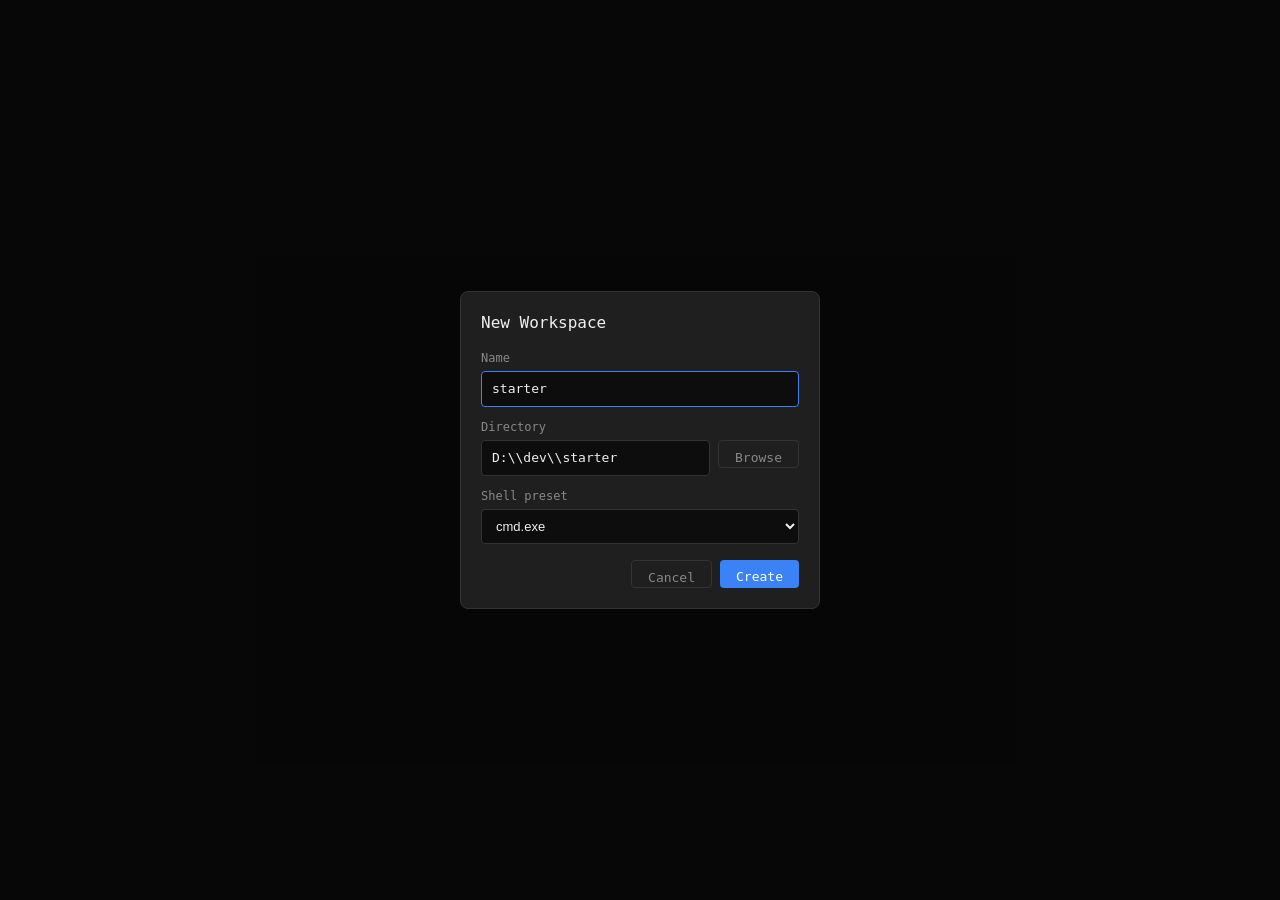
Scenario: CreateWorkspaceModal › shows a clear local error when browsing fails
Click the button "Browse" at (758, 454), box [718,440,799,468]
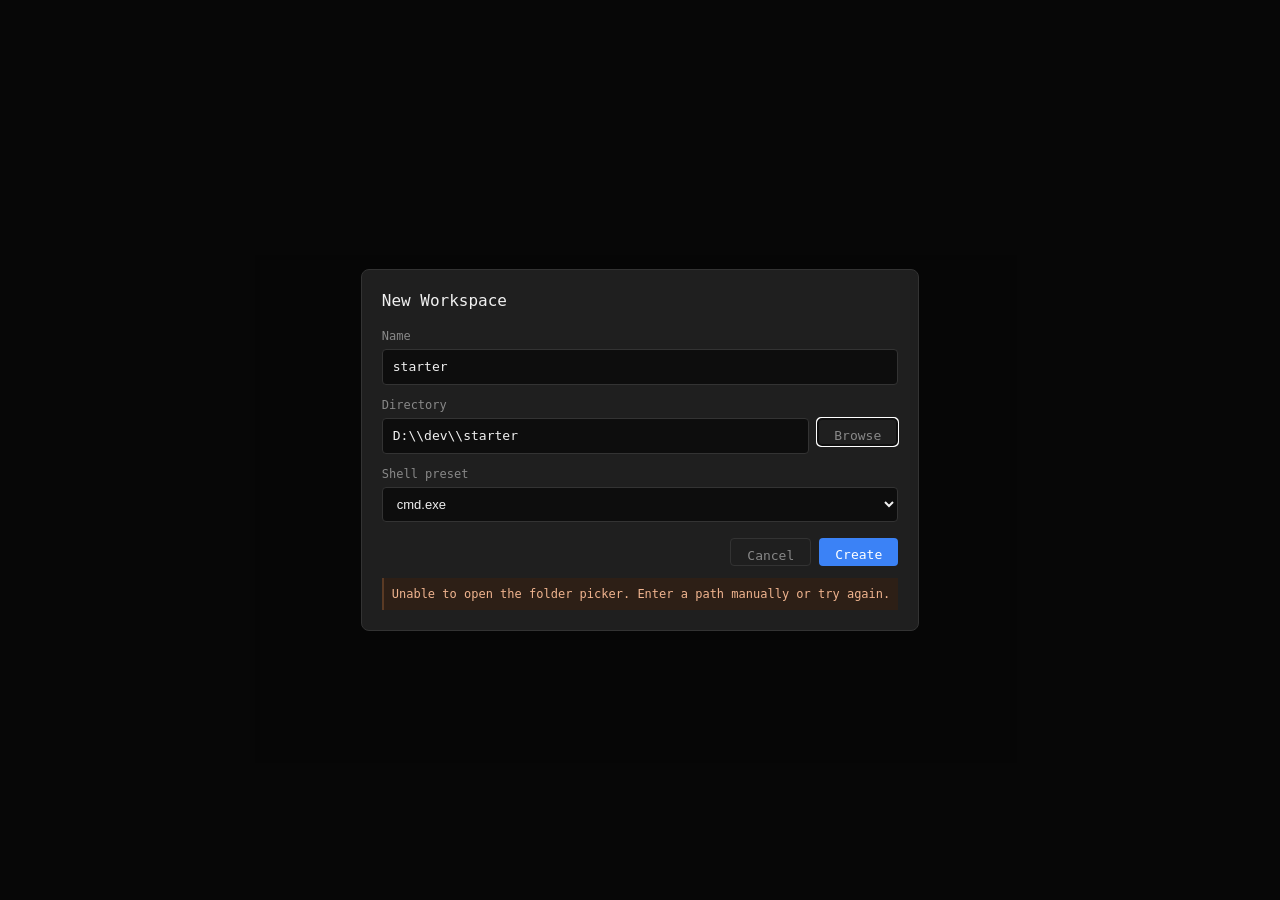
Now the text "Unable to open the folder picker. Enter a path manually or try again." is shown, box [382,578,898,610]
